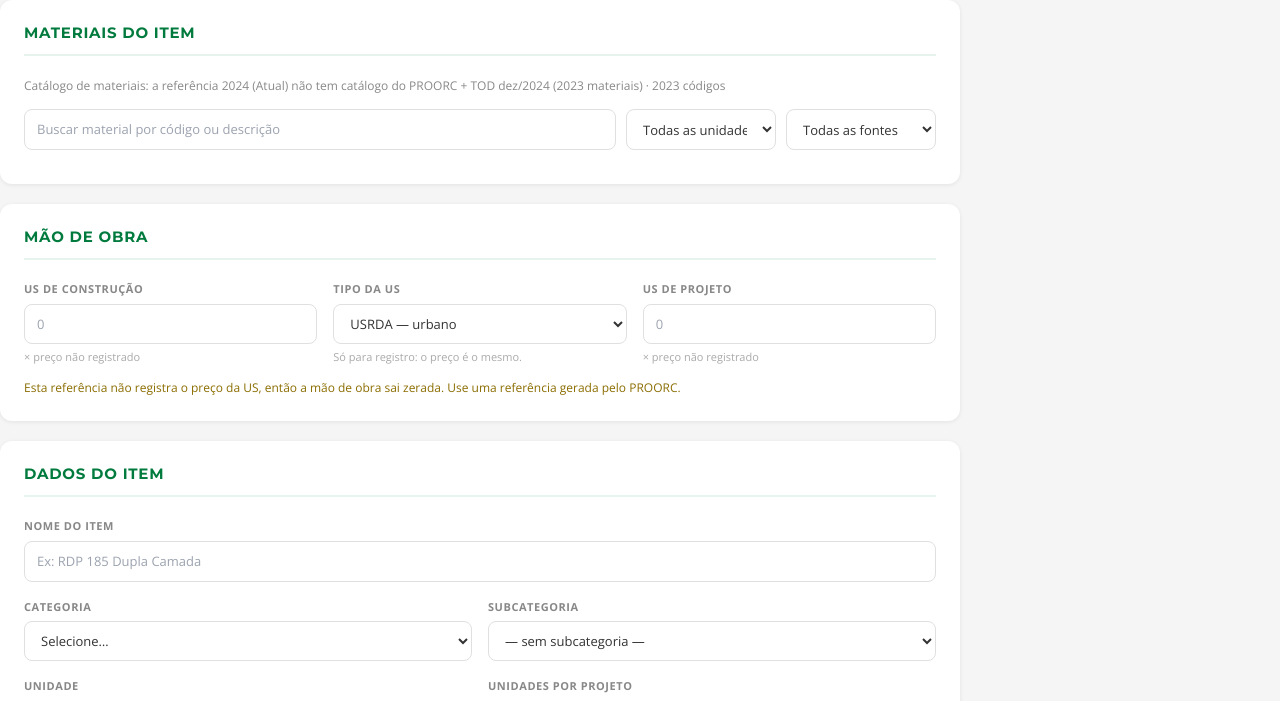
Criar Item com o catálogo da TOD › busca ampla avisa para refinar e mostra no máximo 50
In the field with placeholder "Buscar material por código ou descrição": (320, 130) x1=24 y1=109 x2=616 y2=150, type "cabo"
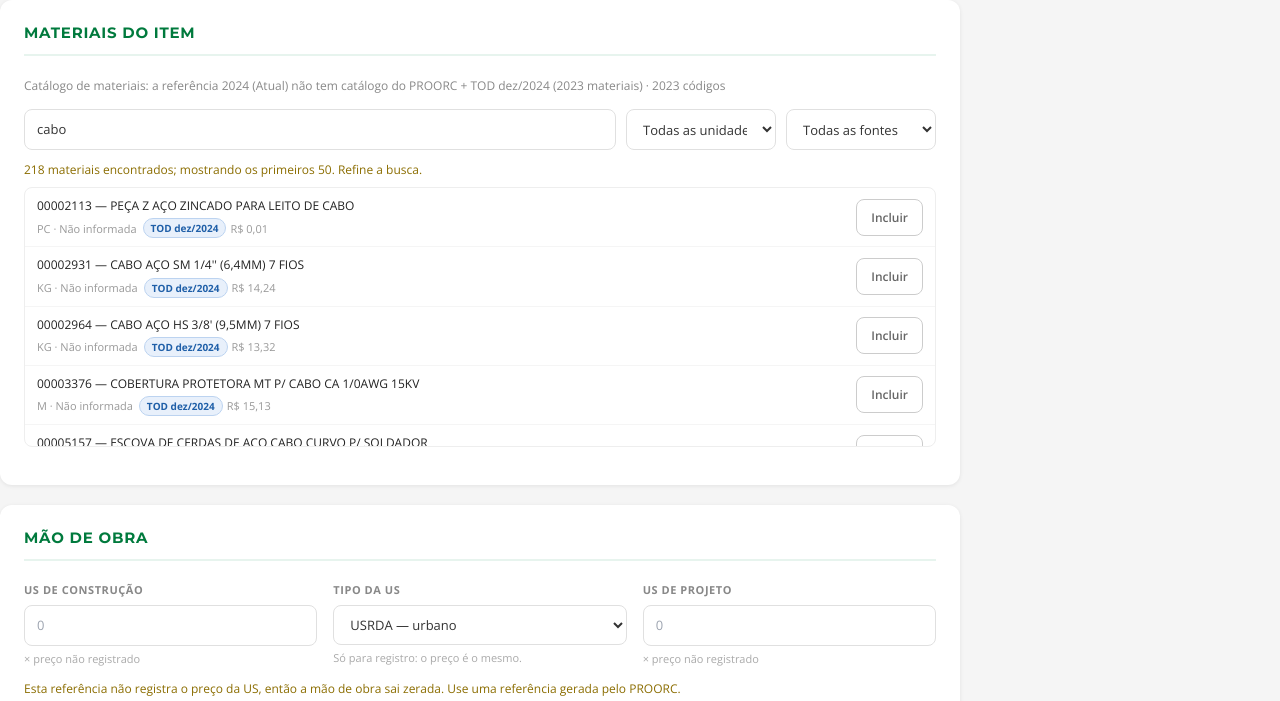
Expected: the text "218 materiais encontrados; mostrando os primeiros 50. Refine a busca." is shown, x1=24 y1=161 x2=422 y2=178
